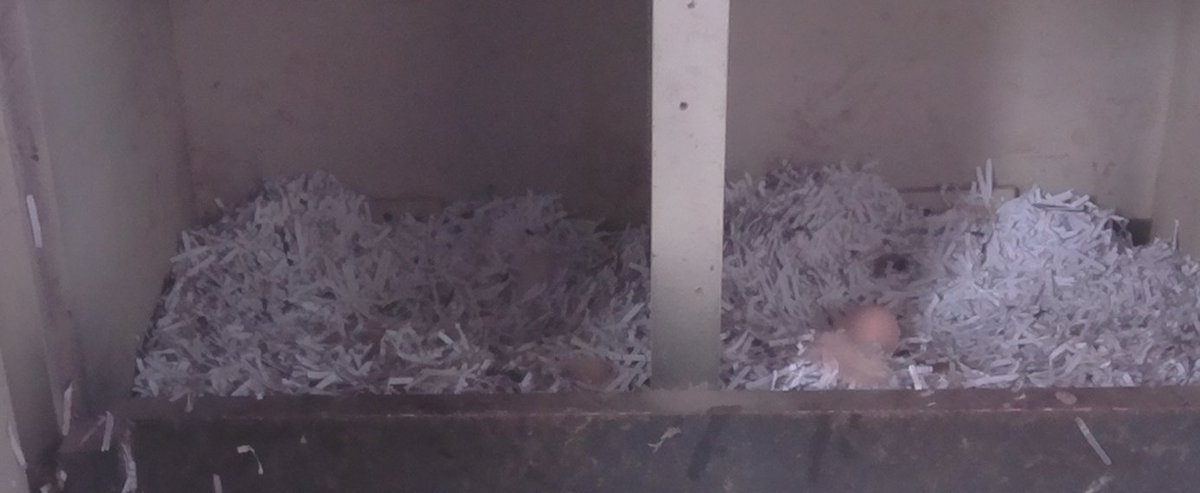egg: (844, 302, 904, 358)
